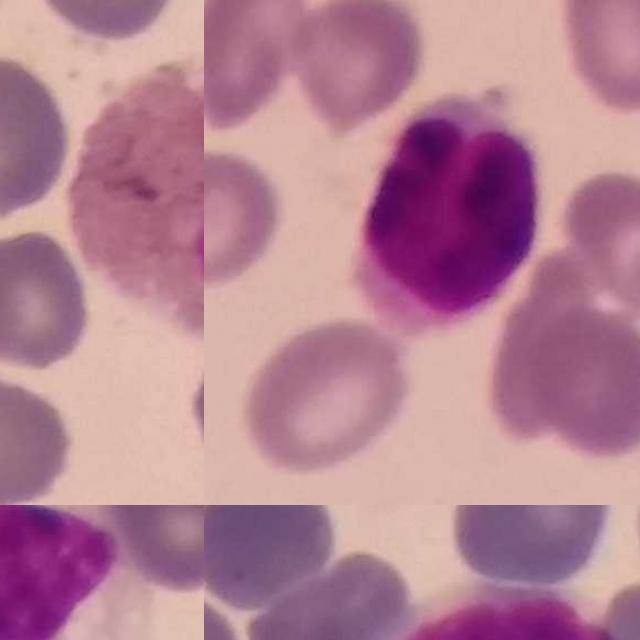Eosinophil: (63, 51, 204, 337)
Lymphocyte: (356, 92, 543, 342)
Monocyte: (0, 505, 143, 640), (348, 580, 640, 640)
